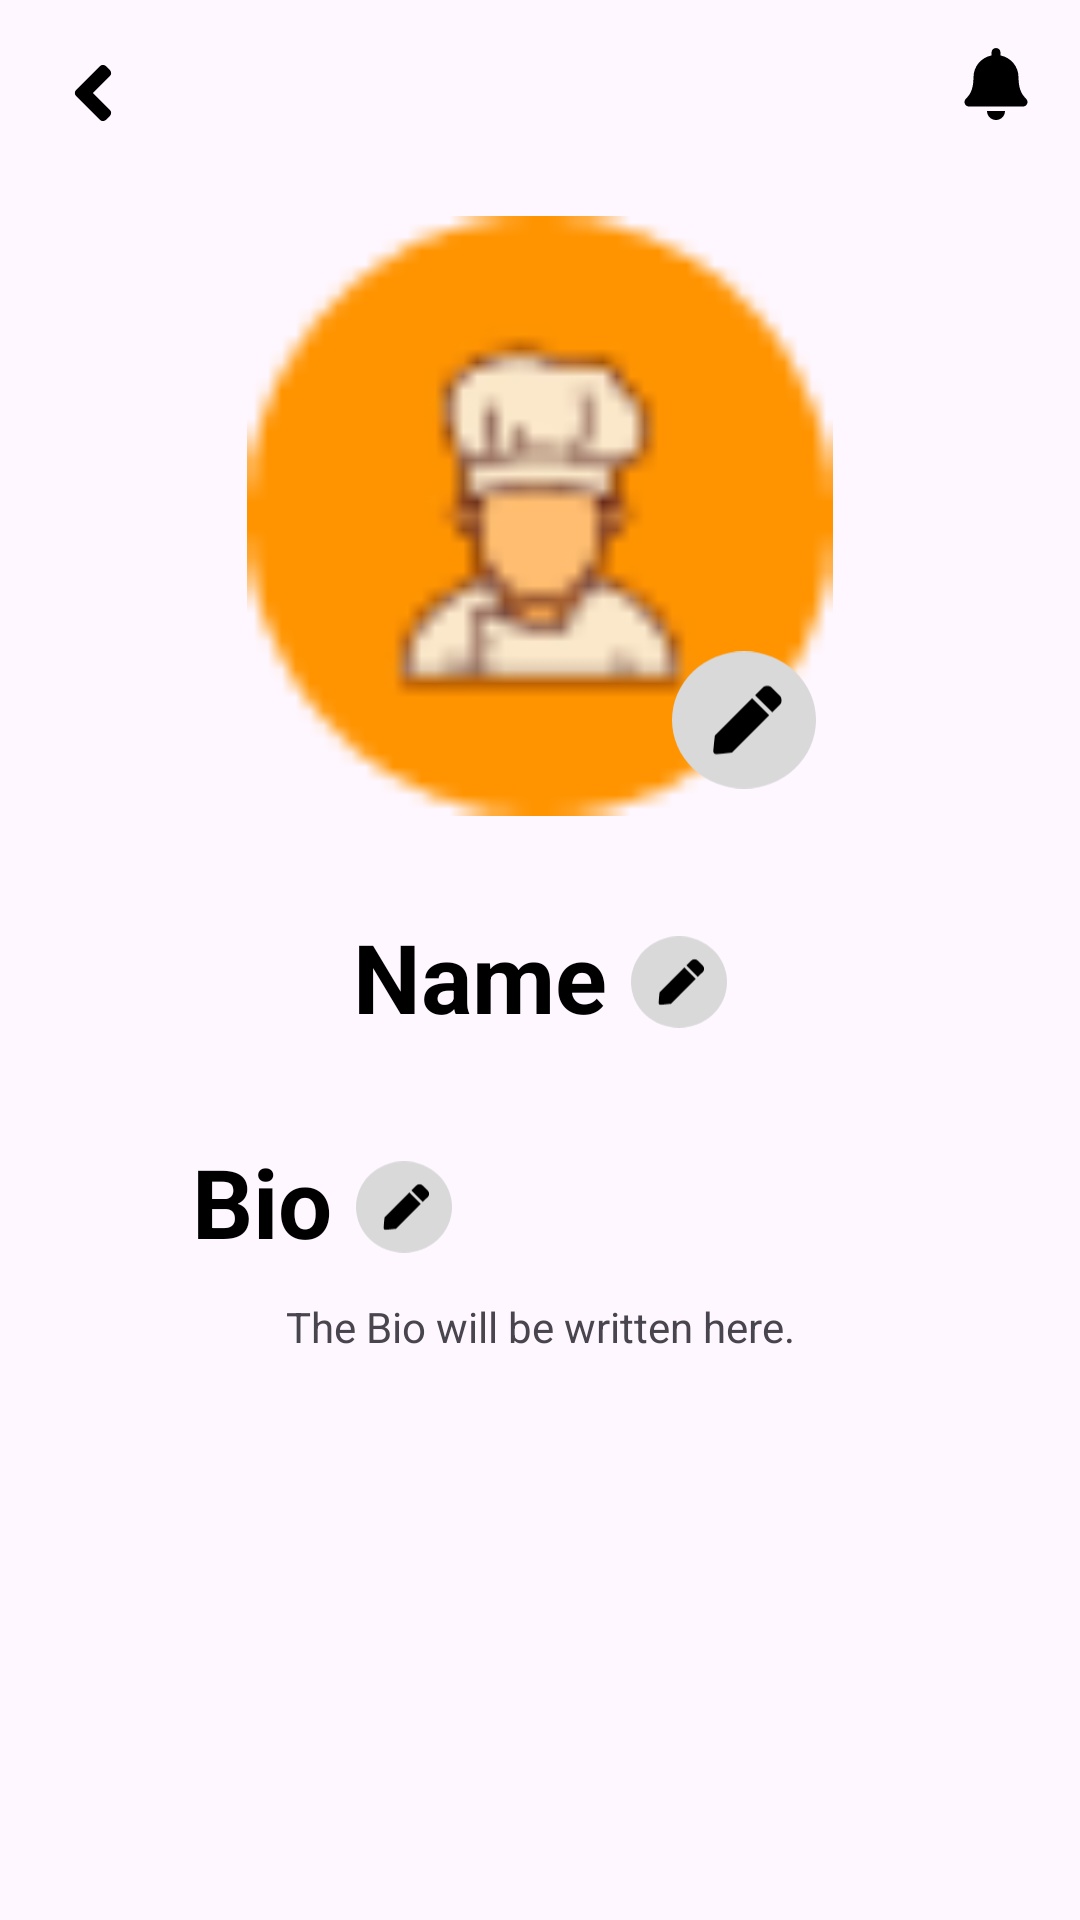

Icon click points for this 1080w x 1920h phone screenshot, format point (x, y):
arrow left: point (93, 93)
edit circular: point (744, 720), point (679, 982), point (404, 1207)
notification bell: point (996, 84)
